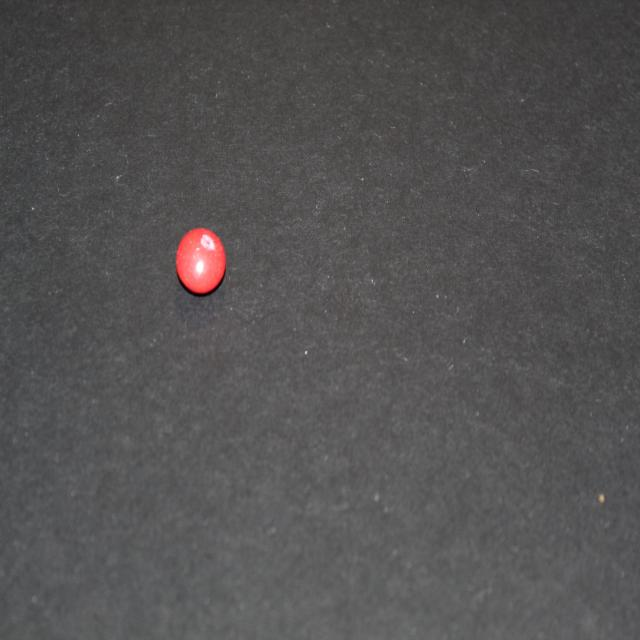smartie: (175, 228, 227, 298)
